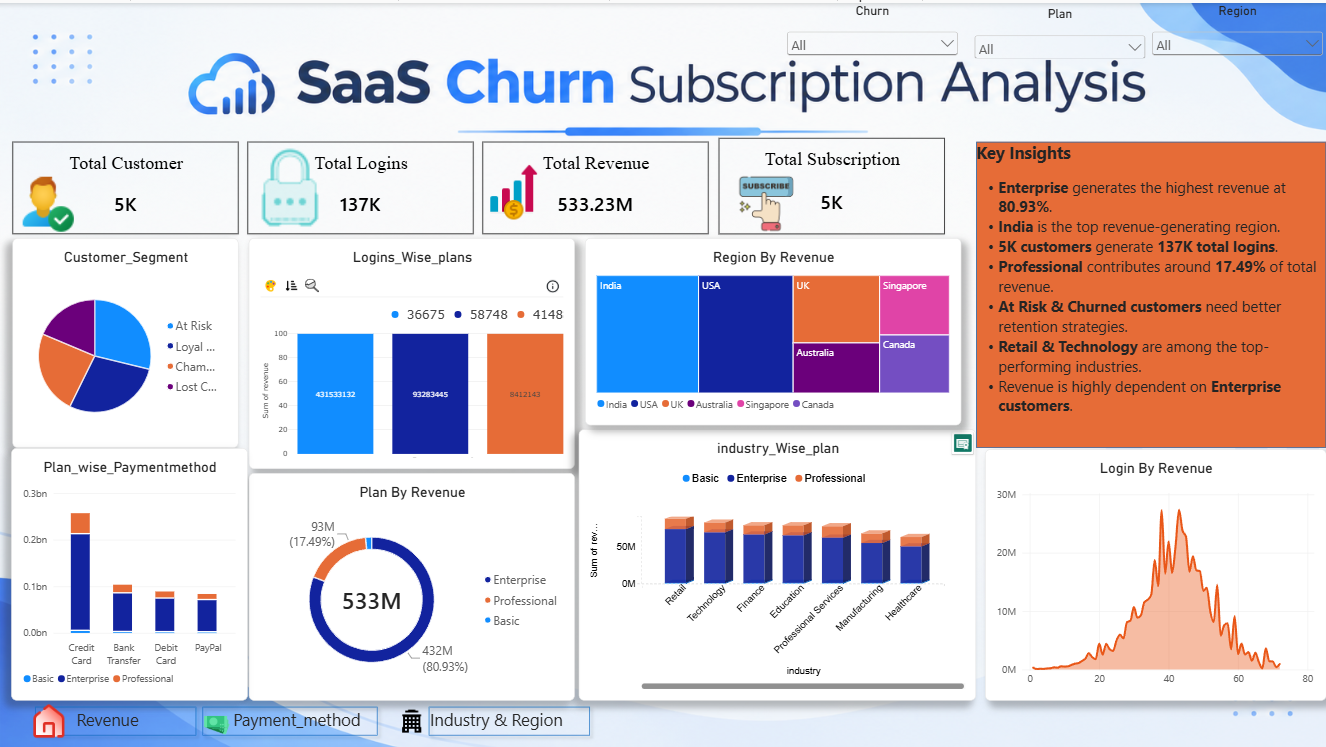

The page's visual inventory and layout, read from the dashboard file:
{"tool":"powerbi","page":{"name":"Page 4","canvas":[1920,1080],"ordinal":3},"visuals":[{"type":"cardVisual","title":"Total Customer","fields":{"Data":["saas customers_clean.total_customer"]},"box":[18.1,200.9,327.3,158.5],"z":0},{"type":"cardVisual","title":"Total Revenue","fields":{"Data":["saas subscription_clean.total_rev"]},"box":[698.5,200.9,327.5,159.3],"z":1000},{"type":"cardVisual","title":"Total Subscription","fields":{"Data":["saas subscription_clean.total sub"]},"box":[1040.6,200.9,327.5,159.3],"z":2000},{"type":"cardVisual","title":"Total Logins","fields":{"Data":["saas usage_clean.Total_login"]},"box":[358.3,200.9,327.5,159.3],"z":3000},{"type":"pieChart","title":"Customer_Segment","fields":{"Category":["saas rfm_customer.Customer Segment"],"Y":["CountNonNull(saas customers_clean.industry)"]},"box":[18.1,394.5,327.5,304],"z":4000},{"type":"stackcolumnlabelvalue6EB582BBADBBD9847D2A59E6558A8AB9","title":"Logins_Wise_plans","fields":{"col_3":["saas subscription_clean.plan"],"col_6":["Sum(saas subscription_clean.revenue)"],"col_5":["Sum(saas usage_clean.monthly_logins)"]},"box":[374.6,394.5,472.3,334.8],"z":5000},{"type":"barChartnew3D9F6B456A3E4B4A1B8D8F2D3A4B5C6D7E","title":" industry_Wise_plan","fields":{"category":["saas customers_clean.industry"],"measure":["Sum(saas subscription_clean.revenue)"],"legend":["saas subscription_clean.plan"]},"box":[872.3,655.1,575.5,421.7],"z":6000},{"type":"donutChart","title":"Plan_wise_Revenue","fields":{"Category":["saas subscription_clean.plan"],"Y":["Sum(saas subscription_clean.revenue)"]},"box":[374.6,747.4,472.3,329.4],"z":7000},{"type":"lineStackedColumnComboChart","title":"Plan_wise_Paymentmethod","fields":{"Category":["saas subscription_clean.payment_method"],"Series":["saas subscription_clean.plan"],"Y":["Sum(saas subscription_clean.revenue)"]},"box":[18.1,711.2,342,365.6],"z":8000},{"type":"stackedAreaChart","title":"Login_Wise_Revenue","fields":{"Category":["saas usage_clean.monthly_logins"],"Y":["Sum(saas subscription_clean.revenue)"]},"box":[1464,655.1,456,421.7],"z":9000},{"type":"treemap","title":"Region_Wise_Revenue ","fields":{"Group":["saas customers_clean.region"],"Values":["Sum(saas subscription_clean.revenue)"]},"box":[846.9,372.8,544.7,271.4],"z":10000},{"type":"shape","box":[1413.3,200.9,506.7,443.4],"z":11000},{"type":"textbox","box":[1413.3,200.9,506.7,443.4],"z":12000},{"type":"slicer","title":"Churn","fields":{"Values":["saas chur_clean.churn"]},"box":[1134.7,0,257,79.6],"z":13000},{"type":"slicer","title":"Plan","fields":{"Values":["saas customers_clean.plan"]},"box":[1406.1,5.4,257,74.2],"z":14000},{"type":"slicer","title":"Region","fields":{"Values":["saas customers_clean.region"]},"box":[1663.1,0,257,92.3],"z":15000},{"type":"image","box":[358.3,213.5,123.1,146.6],"z":16000},{"type":"image","box":[18.1,213.5,88.7,146.6],"z":17000},{"type":"image","box":[698.5,213.5,90.5,146.6],"z":18000},{"type":"image","box":[1040.6,246.1,137.5,114],"z":19000},{"type":"shape","box":[18.1,67,251.5,67],"z":20000},{"type":"shape","box":[18.1,133.9,251.5,67],"z":21000},{"type":"textbox","box":[18.1,0,222.6,67],"z":22000},{"type":"textbox","box":[18.1,67,251.5,67],"z":23000},{"type":"textbox","box":[18.1,133.9,251.5,67],"z":24000},{"type":"shape","box":[18.1,0,251.5,67],"z":25000},{"type":"shape","box":[18.1,67,251.5,67],"z":25001},{"type":"shape","box":[18.1,133.9,251.5,67],"z":25002},{"type":"image","box":[0,0,90.5,67],"z":25003},{"type":"image","box":[18.1,92.3,45.2,41.6],"z":25004},{"type":"image","box":[18.1,159.3,45.2,41.6],"z":25005}]}

Visuals, with their boxes on the page's 1920x1080 design canvas (x1, y1, x2, y2). These are canvas units, not pixel positions in the 1326x747 screenshot, which may show the page scaled, cropped or inside an application window:
"Total Customer" cardVisual: 18 201 345 359
"Total Revenue" cardVisual: 698 201 1026 360
"Total Subscription" cardVisual: 1041 201 1368 360
"Total Logins" cardVisual: 358 201 686 360
"Customer_Segment" pieChart: 18 394 346 698
"Logins_Wise_plans" stackcolumnlabelvalue6EB582BBADBBD9847D2A59E6558A8AB9: 375 394 847 729
" industry_Wise_plan" barChartnew3D9F6B456A3E4B4A1B8D8F2D3A4B5C6D7E: 872 655 1448 1077
"Plan_wise_Revenue" donutChart: 375 747 847 1077
"Plan_wise_Paymentmethod" lineStackedColumnComboChart: 18 711 360 1077
"Login_Wise_Revenue" stackedAreaChart: 1464 655 1920 1077
"Region_Wise_Revenue " treemap: 847 373 1392 644
shape: 1413 201 1920 644
textbox: 1413 201 1920 644
"Churn" slicer: 1135 0 1392 80
"Plan" slicer: 1406 5 1663 80
"Region" slicer: 1663 0 1920 92
image: 358 214 481 360
image: 18 214 107 360
image: 698 214 789 360
image: 1041 246 1178 360
shape: 18 67 270 134
shape: 18 134 270 201
textbox: 18 0 241 67
textbox: 18 67 270 134
textbox: 18 134 270 201
shape: 18 0 270 67
shape: 18 67 270 134
shape: 18 134 270 201
image: 0 0 90 67
image: 18 92 63 134
image: 18 159 63 201
